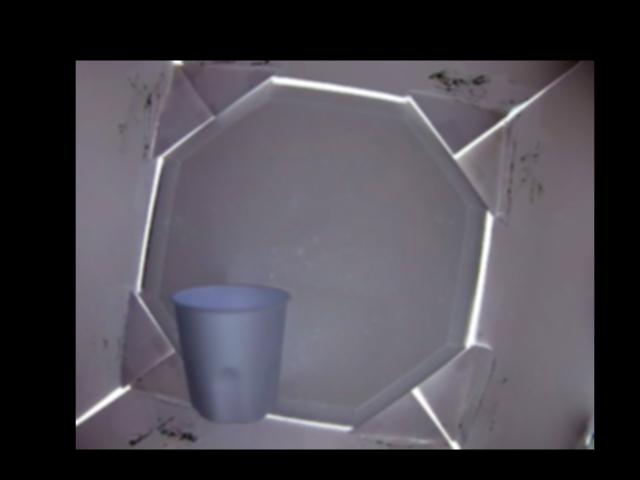Cup: (171, 280, 291, 421)
